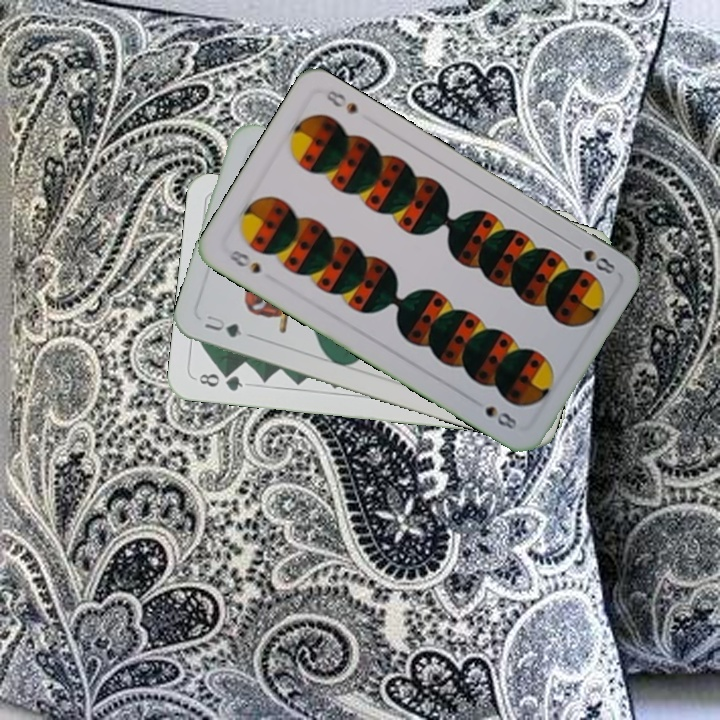G8: (195, 368, 245, 394)
GU: (200, 310, 245, 340)
S8: (579, 245, 618, 277), (224, 246, 264, 277)
